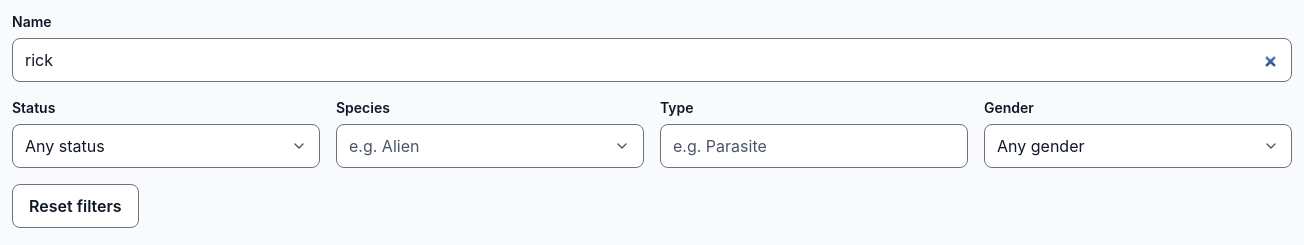
CharacterFiltersForm › offers Reset filters only while a filter is applied
The image size is (1304, 245).
Click the button "Reset filters" at (75, 206), box [12,184,139,228]
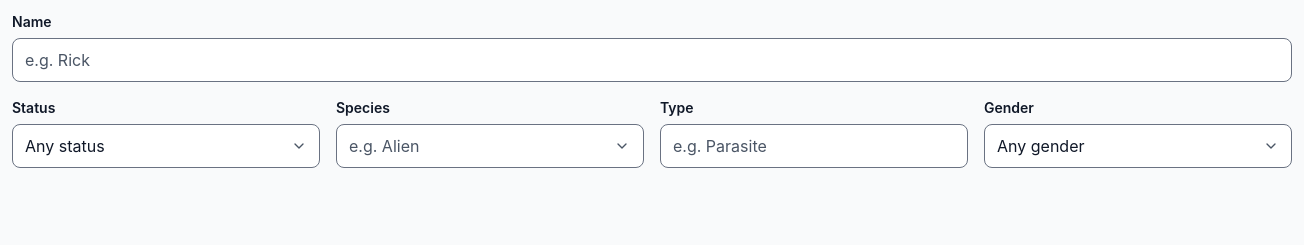
Check: the button "Reset filters" is gone
Check: the search field labelled "Name" is empty, box [12,38,1292,82]
